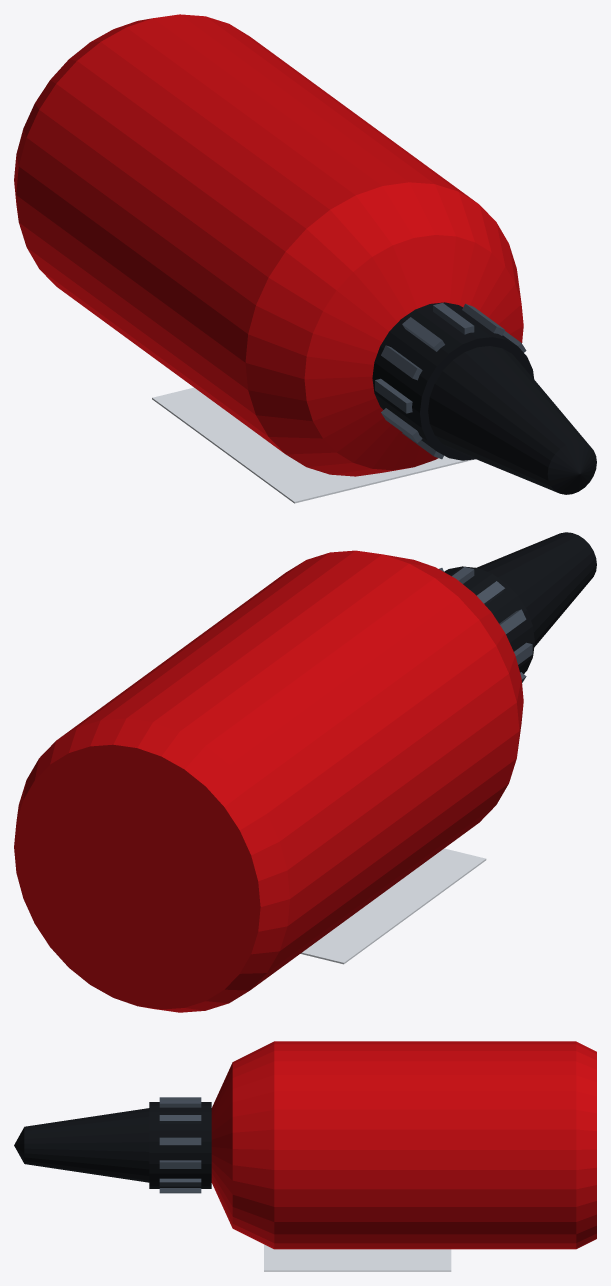
The model's file is threadlocker.obj.
3 views of the same model, one above another, from view 1: azimuth 30°, elevation 25°; view 2: azimuth 150°, elevation 25°; view 3: azimuth 270°, elevation 25° (orthographic). The views are drawn at different scales.
Parts seen in each view (by area): view 1: threadlocker; view 2: threadlocker; view 3: threadlocker.
Boxes of the visible parts, x1,y1,x2,y2 form: threadlocker: [14, 14, 596, 503]; threadlocker: [14, 532, 596, 1012]; threadlocker: [14, 1041, 596, 1271].
Bounding box in the file's own units: 0.7143 × 0.7182 × 2.
